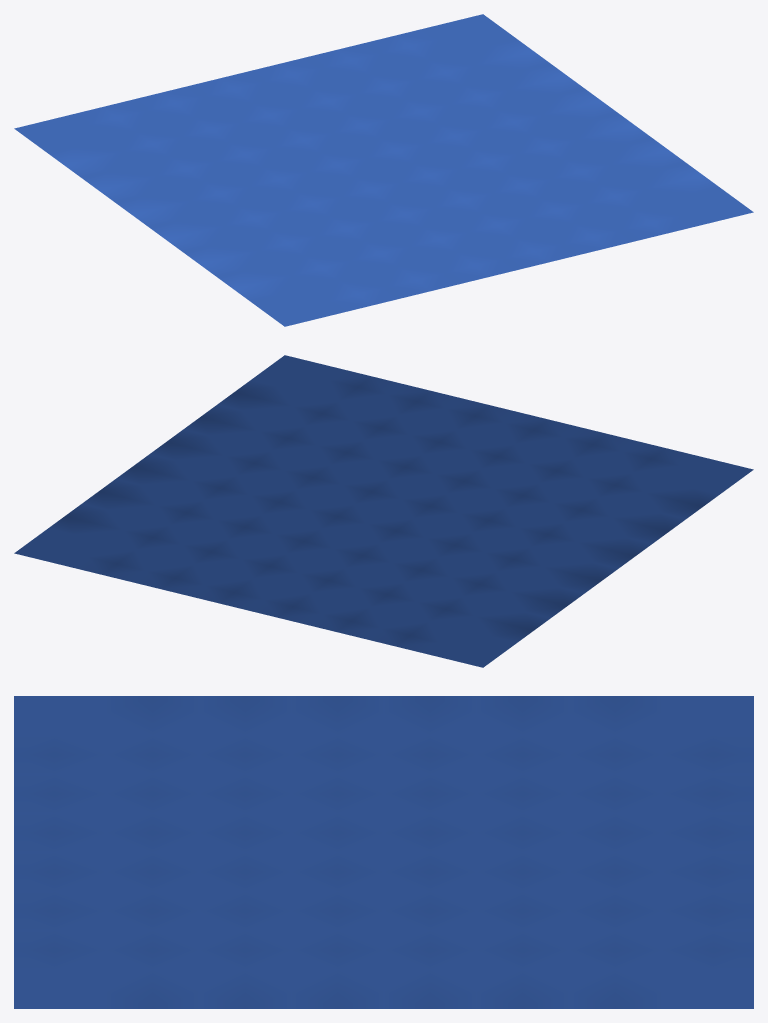
Rendered from tarp_stretched.glb.
The picture shows the model from 3 angles, top to bottom: view 1: azimuth 30°, elevation 25°; view 2: azimuth 150°, elevation 25°; view 3: azimuth 270°, elevation 25°; orthographic projection. The views are drawn at different scales.
Size of the model in its own units: 4 by 0 by 4.
